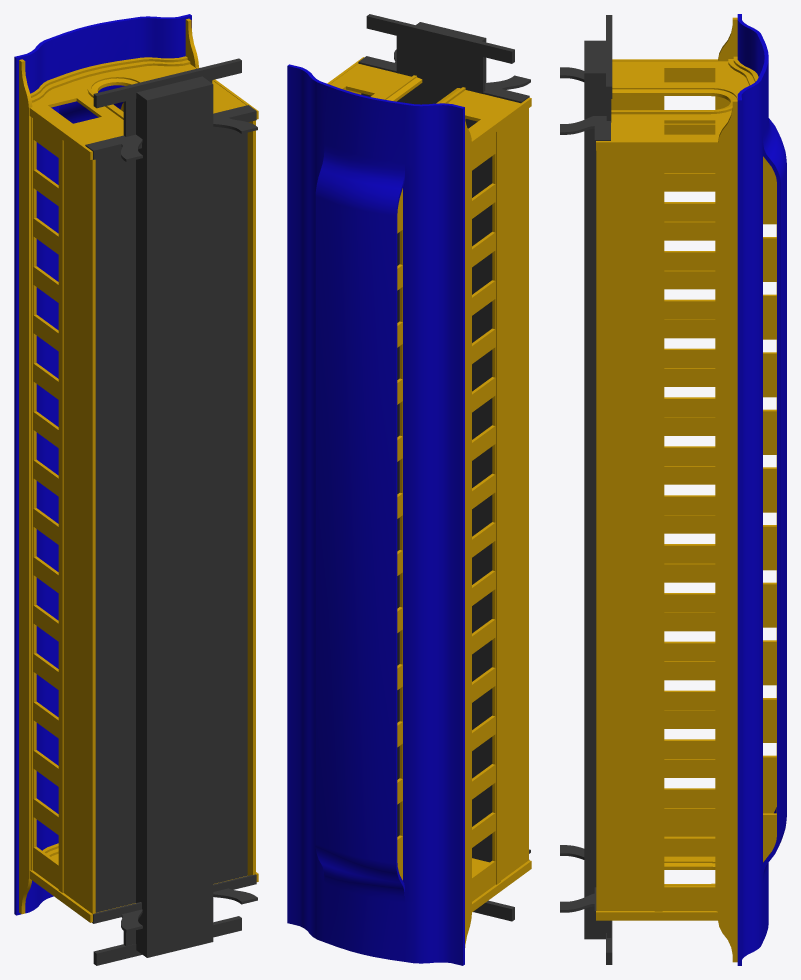
File: PassengerWagon_01_LOD2.fbx
The picture shows the model from 3 angles, left to right: view 1: azimuth 30°, elevation 25°; view 2: azimuth 150°, elevation 25°; view 3: azimuth 270°, elevation 25°; orthographic projection.
Parts seen in each view (by area): view 1: PassengerWagon_01_LOD2; view 2: PassengerWagon_01_LOD2; view 3: PassengerWagon_01_LOD2.
Boxes of the visible parts, x1,y1,x2,y2 form: PassengerWagon_01_LOD2: [14, 14, 258, 965]; PassengerWagon_01_LOD2: [287, 14, 531, 965]; PassengerWagon_01_LOD2: [560, 14, 786, 965].
Size of the model in its own units: 4.06 by 19.24 by 4.5.
